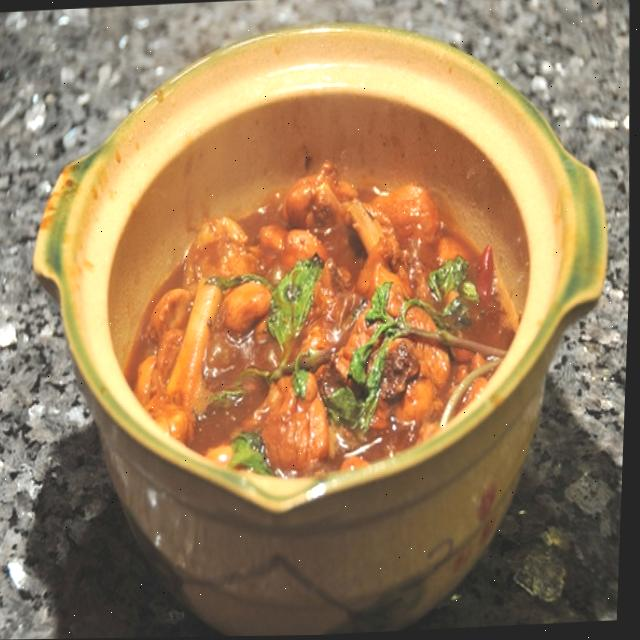鸡肉料理 含炸鸡: (5, 26, 596, 592)
